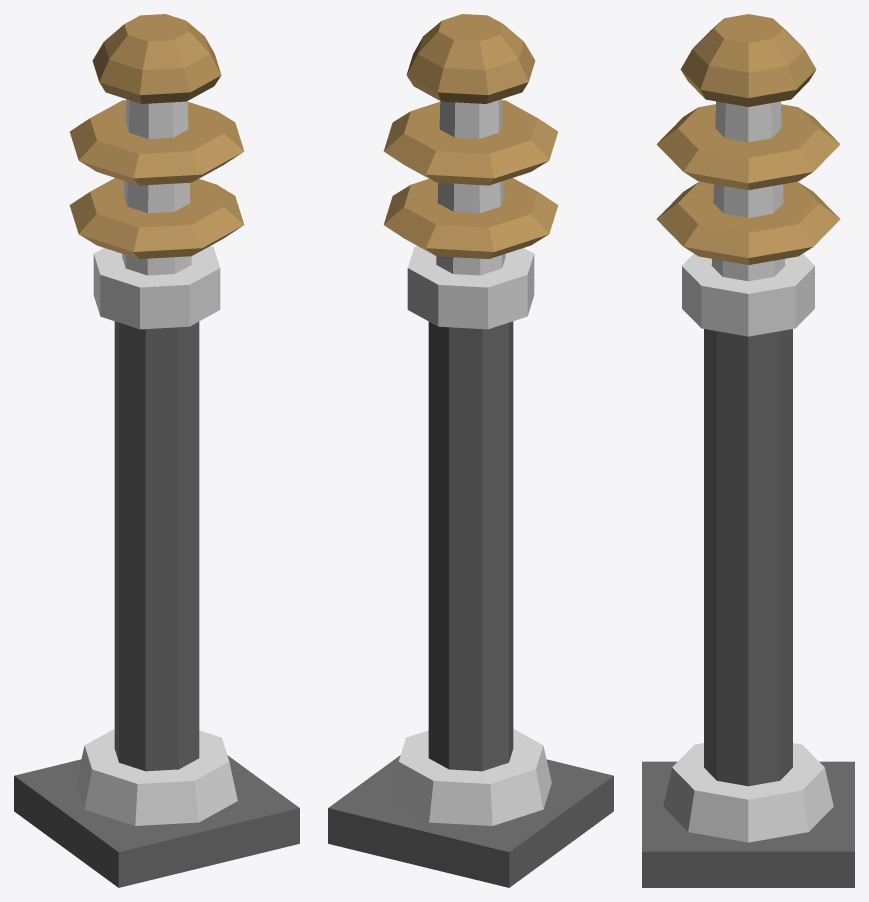
The model's file is rod.fbx.
3 views of the same model, side by side, from view 1: azimuth 30°, elevation 25°; view 2: azimuth 150°, elevation 25°; view 3: azimuth 270°, elevation 25° (orthographic).
Visible parts, largest first — view 1: Cylinder, Cube, Cylinder.002, Cylinder.001, Cylinder.003; view 2: Cylinder, Cube, Cylinder.002, Cylinder.001, Cylinder.003; view 3: Cylinder, Cube, Cylinder.002, Cylinder.001, Cylinder.003.
Part boxes in pixels (bbox=[...]): Cylinder: bbox=[76, 99, 237, 825]; Cube: bbox=[14, 755, 299, 887]; Cylinder.002: bbox=[70, 100, 244, 185]; Cylinder.001: bbox=[69, 178, 244, 258]; Cylinder.003: bbox=[92, 14, 221, 103]; Cylinder: bbox=[390, 99, 551, 825]; Cube: bbox=[328, 755, 613, 887]; Cylinder.002: bbox=[383, 100, 557, 185]; Cylinder.001: bbox=[383, 178, 558, 258]; Cylinder.003: bbox=[406, 14, 535, 103]; Cylinder: bbox=[663, 101, 833, 842]; Cube: bbox=[642, 761, 854, 887]; Cylinder.002: bbox=[656, 104, 840, 190]; Cylinder.001: bbox=[656, 182, 840, 264]; Cylinder.003: bbox=[680, 14, 816, 106].
Bounding box in the file's own units: 232 × 979 × 232.
